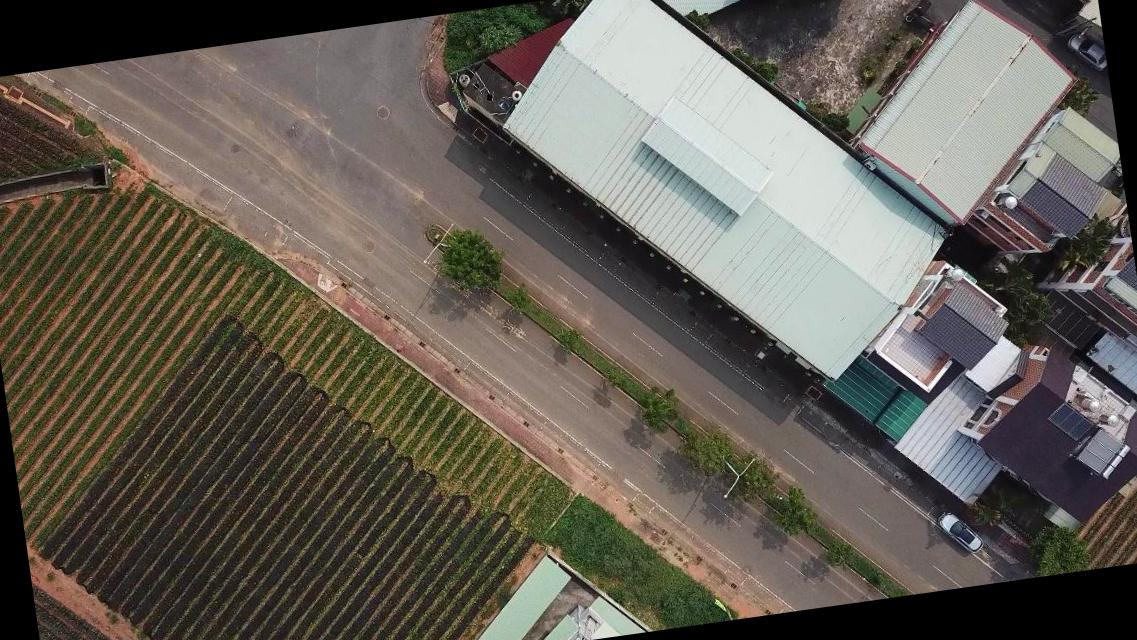vehicle: (935, 504, 984, 556)
